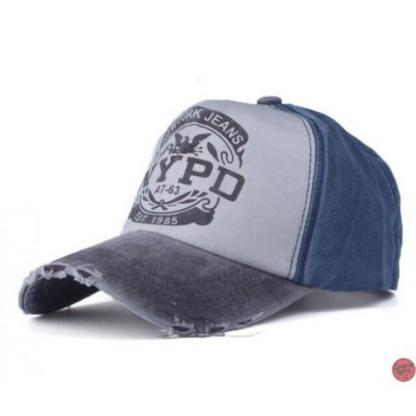cap: (16, 96, 406, 362)
